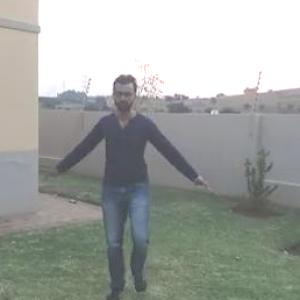land: (53, 63, 235, 299)
